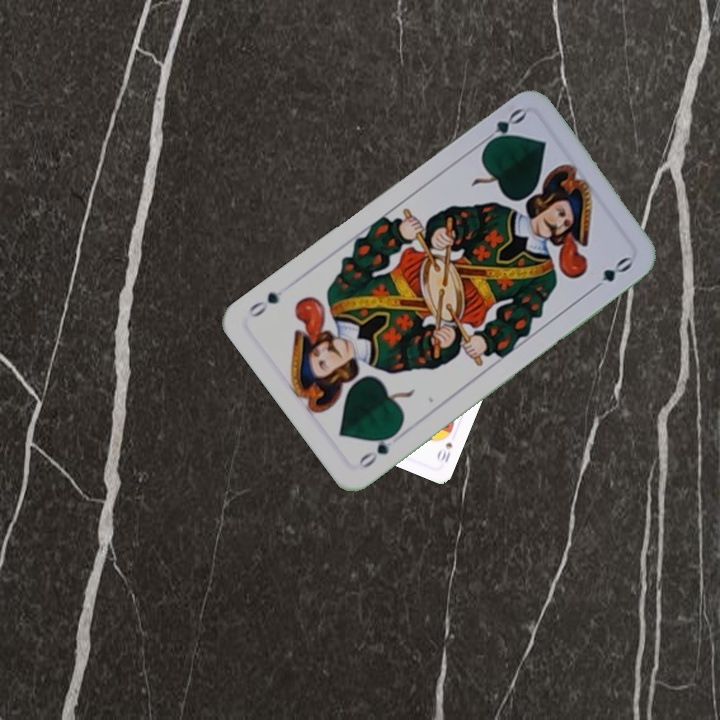GO: (476, 104, 528, 151), (354, 426, 401, 471)
S10: (433, 438, 455, 465)
